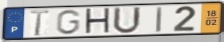2: (172, 5, 199, 34)
G: (55, 9, 83, 36)
H: (84, 7, 112, 36)
I: (155, 6, 164, 34)
T: (29, 9, 51, 37)
U: (111, 6, 143, 35)
